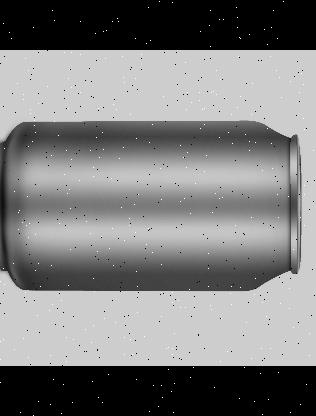Can: (0, 121, 300, 291)
